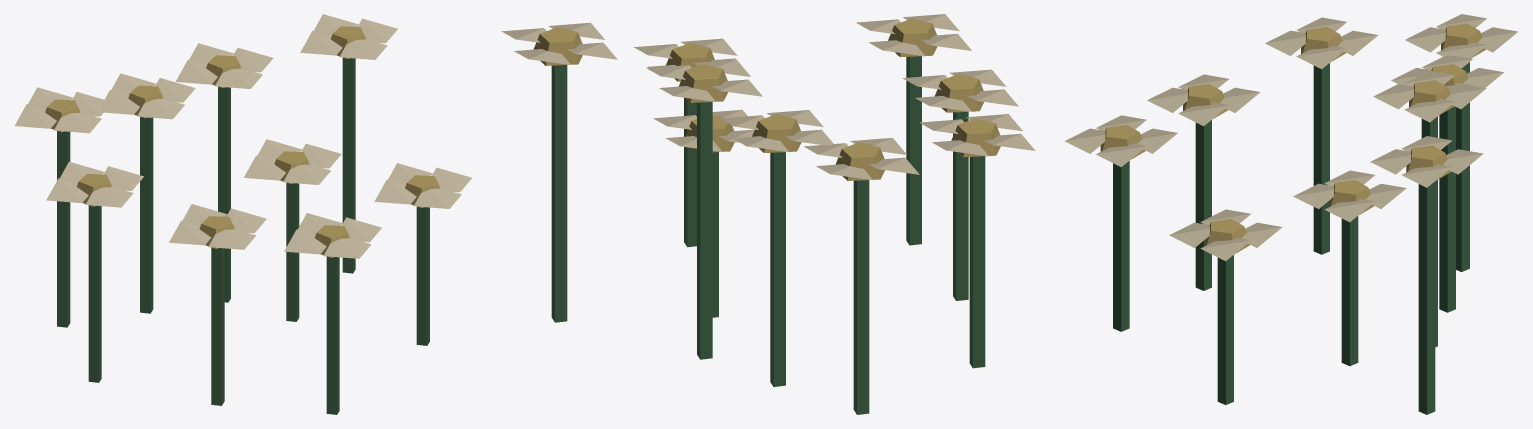
The model's file is Flowers_A.fbx.
3 renders of one model, left to right at view 1: azimuth 30°, elevation 25°; view 2: azimuth 150°, elevation 25°; view 3: azimuth 270°, elevation 25°, orthographic. The views are drawn at different scales.
Parts seen in each view (by area): view 1: Flowers_A; view 2: Flowers_A; view 3: Flowers_A.
Part boxes in pixels (x1=…): Flowers_A: x1=14, y1=14, x2=471, y2=414; Flowers_A: x1=501, y1=14, x2=1035, y2=414; Flowers_A: x1=1064, y1=14, x2=1517, y2=414.
Size of the model in its own units: 0.5627 by 0.32 by 0.5091.
Materials: 1 (1 with a texture image).
